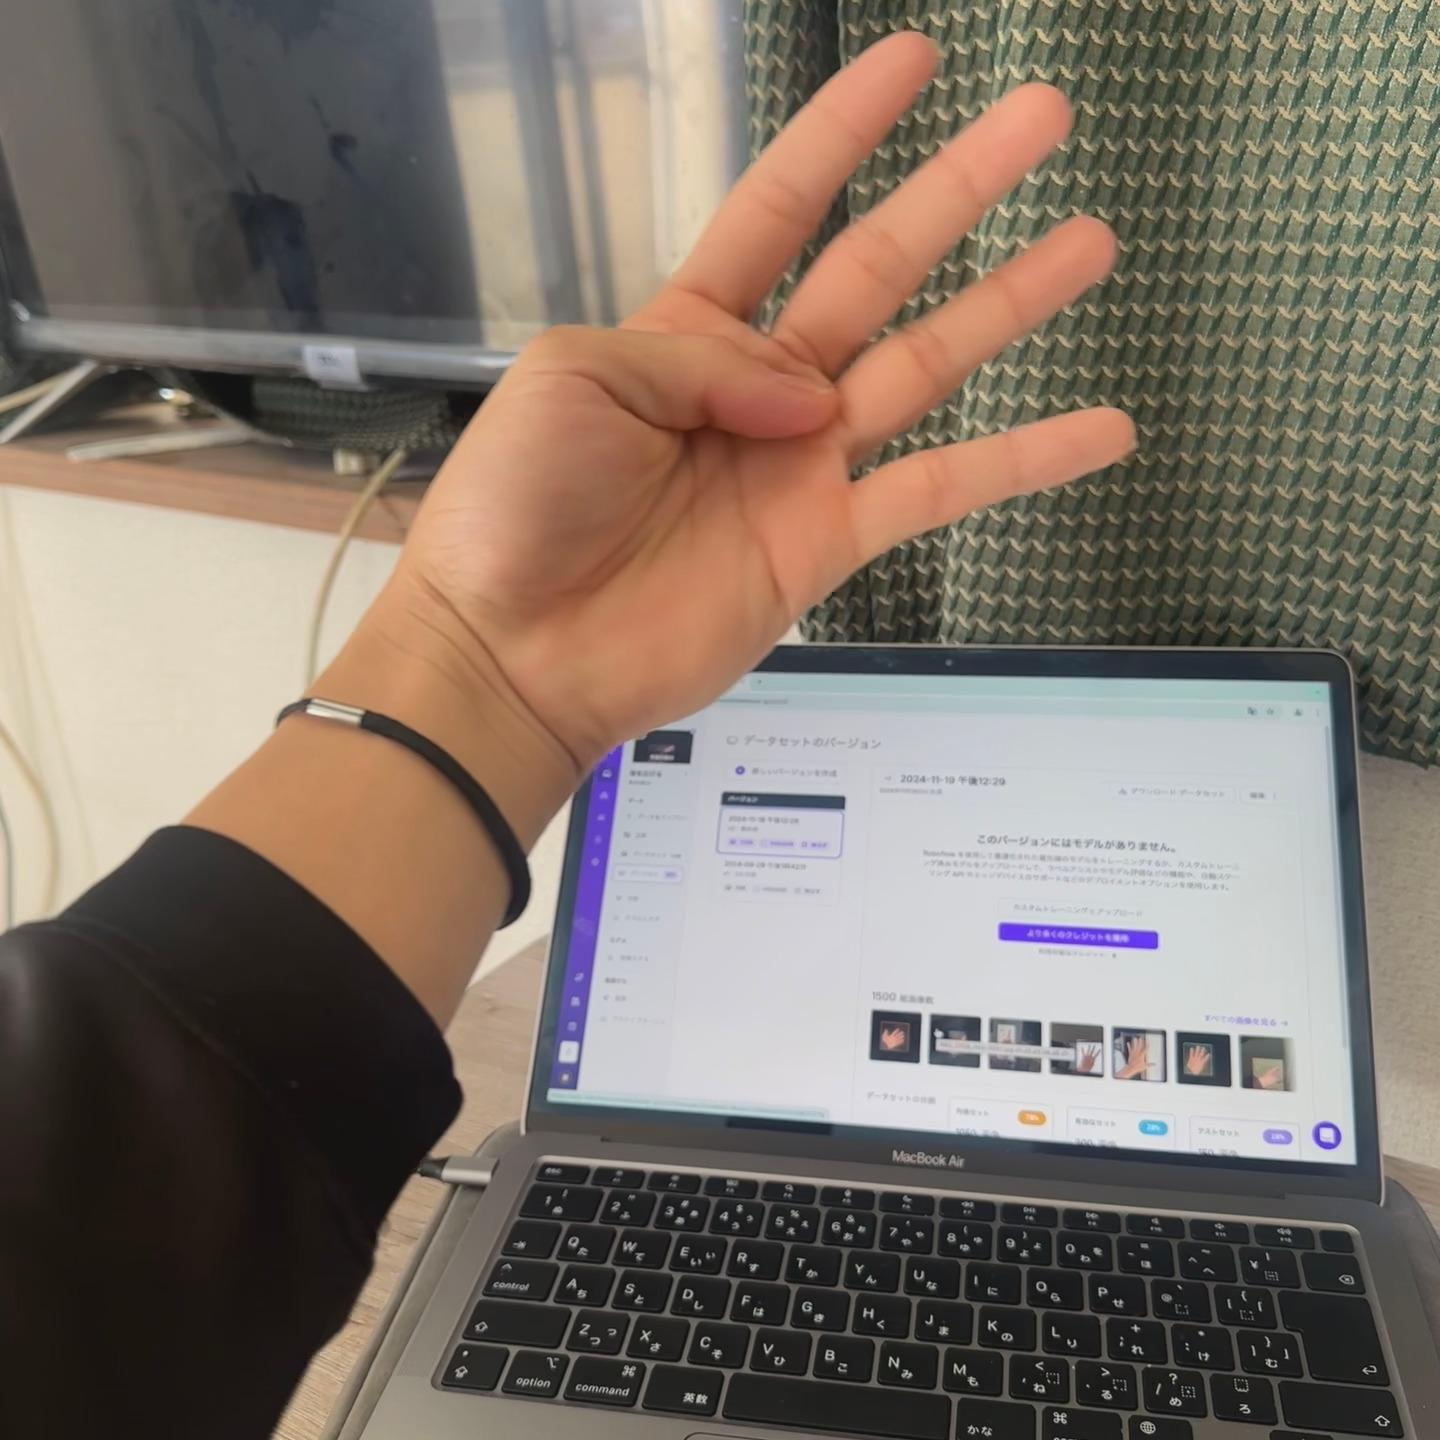without_gloves: (620, 0, 1245, 794)
